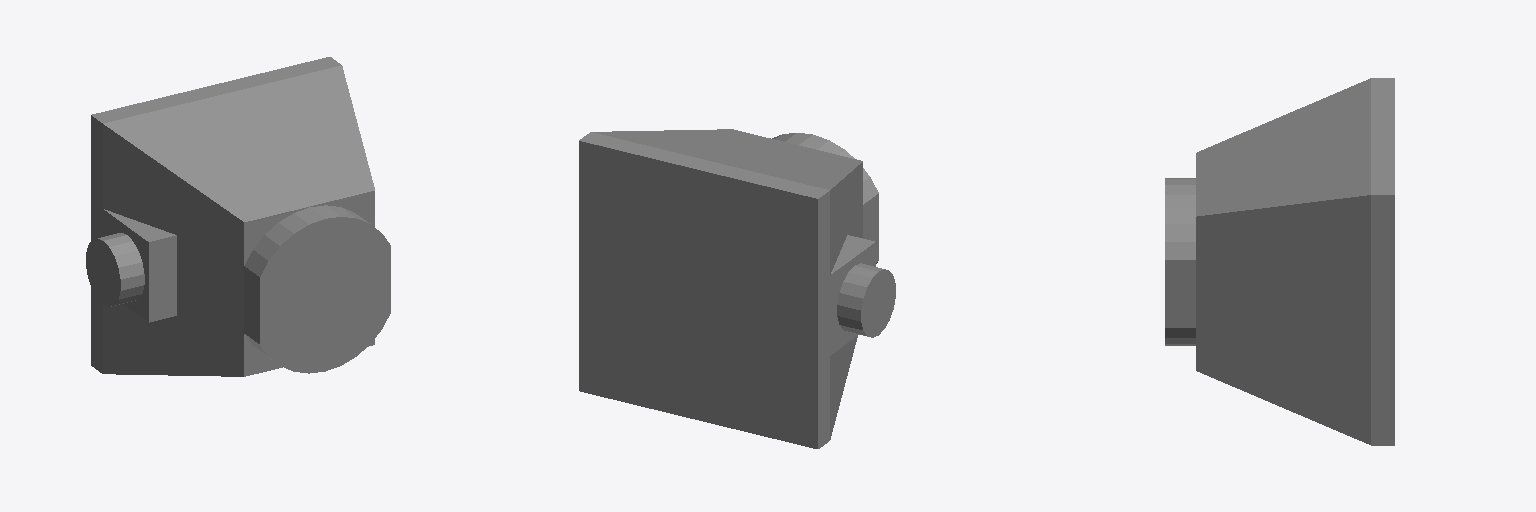
Rendered from d48_ptu_base.obj.
The picture shows the model from 3 angles: view 1: azimuth 30°, elevation 25°; view 2: azimuth 150°, elevation 25°; view 3: azimuth 270°, elevation 25°; orthographic projection.
Parts seen in each view (by area): view 1: <STL_BINARY>_meshId0_name; view 2: <STL_BINARY>_meshId0_name; view 3: <STL_BINARY>_meshId0_name.
Part boxes in pixels (x1,y1,x2,y2): <STL_BINARY>_meshId0_name: (86, 57, 390, 376); <STL_BINARY>_meshId0_name: (579, 129, 895, 448); <STL_BINARY>_meshId0_name: (1165, 78, 1394, 445).
Size of the model in its own units: 0.1209 by 0.1099 by 0.0914.